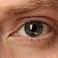eye: (24, 22, 43, 37)
